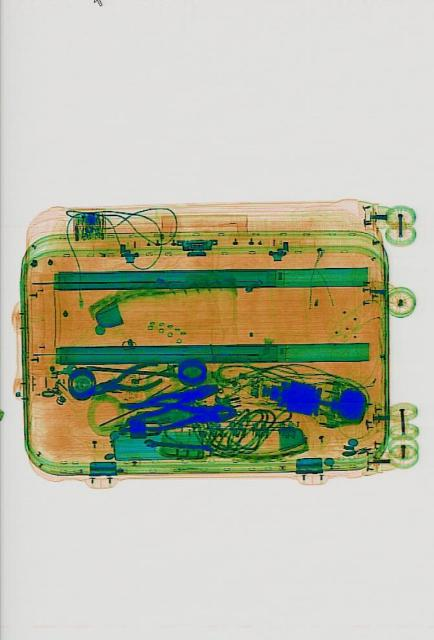Pliers: (116, 373, 220, 427), (85, 358, 162, 406), (133, 400, 235, 430)
